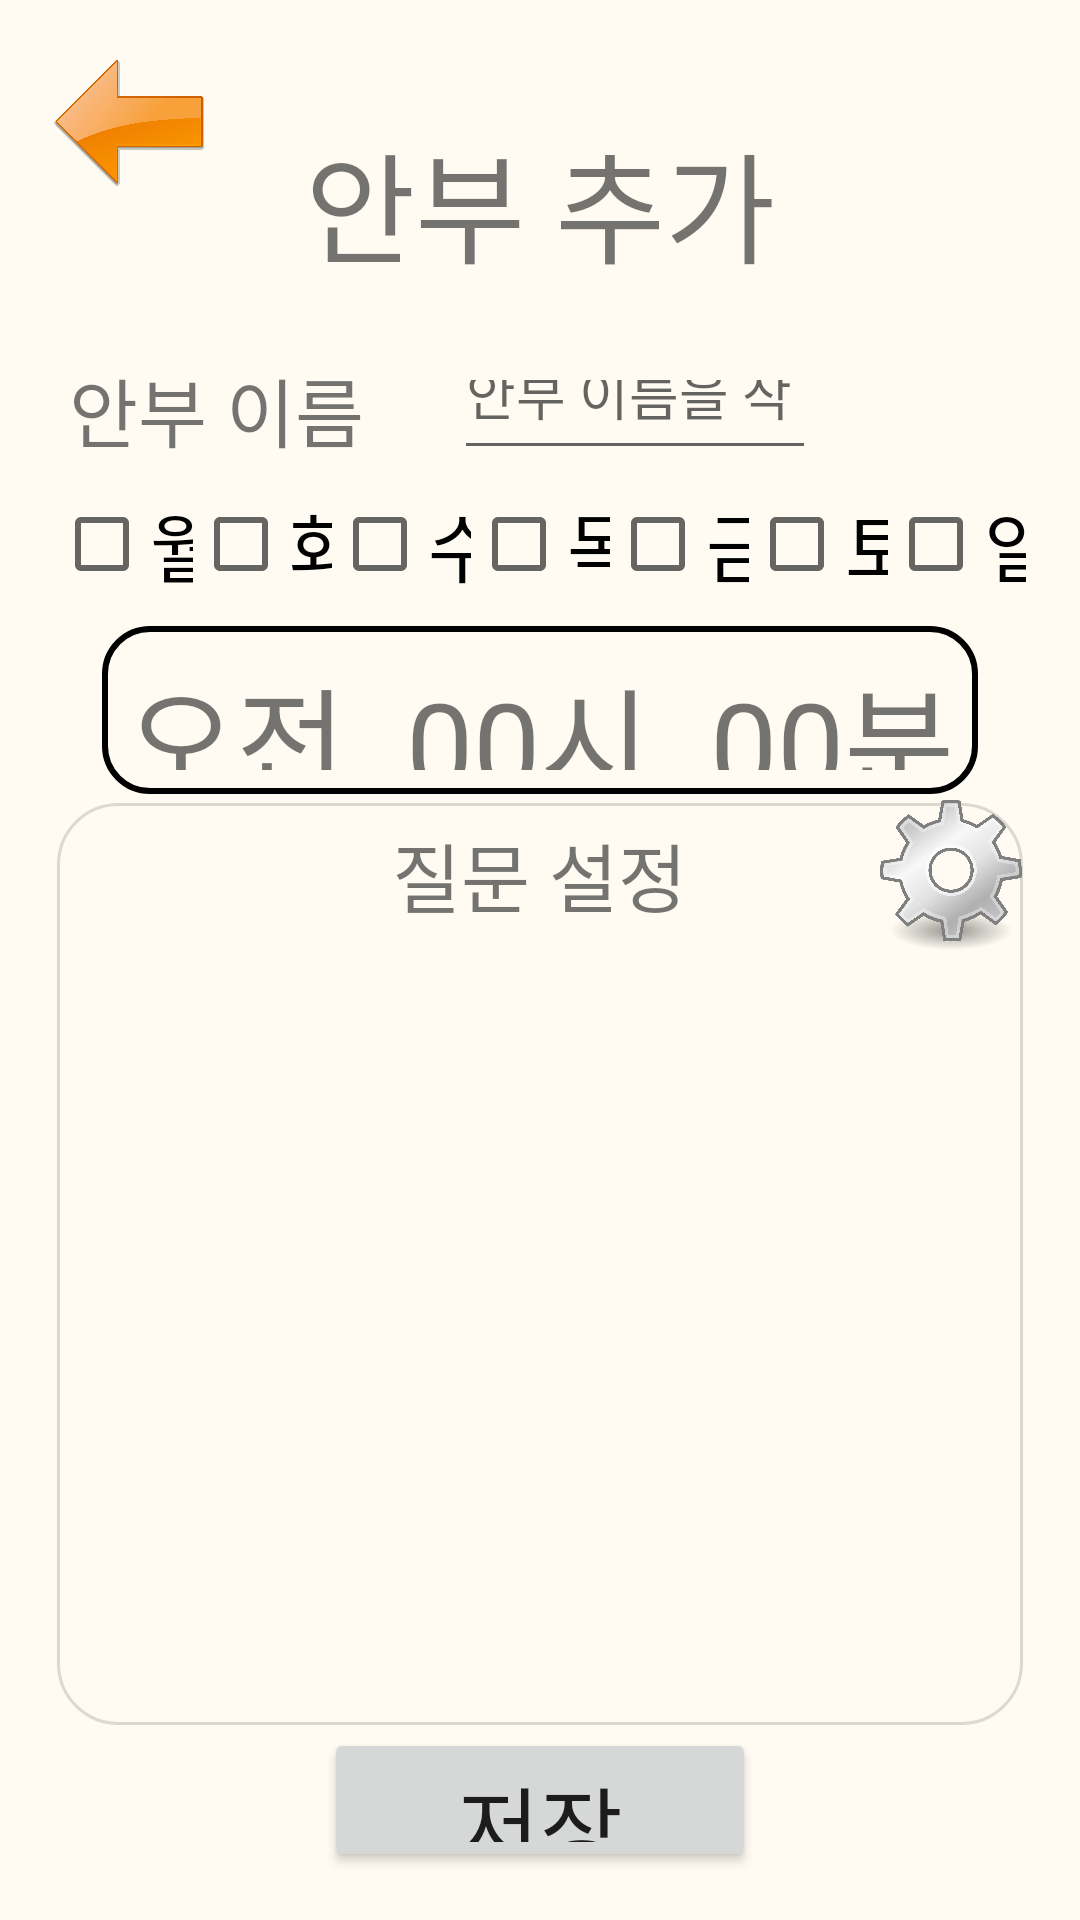

Icons on this 1080 × 1920 Android screen, each with its box as (x1, y1, x2, y2):
backbtn: (54, 60, 204, 186)
optionbtn: (876, 800, 1023, 950)
